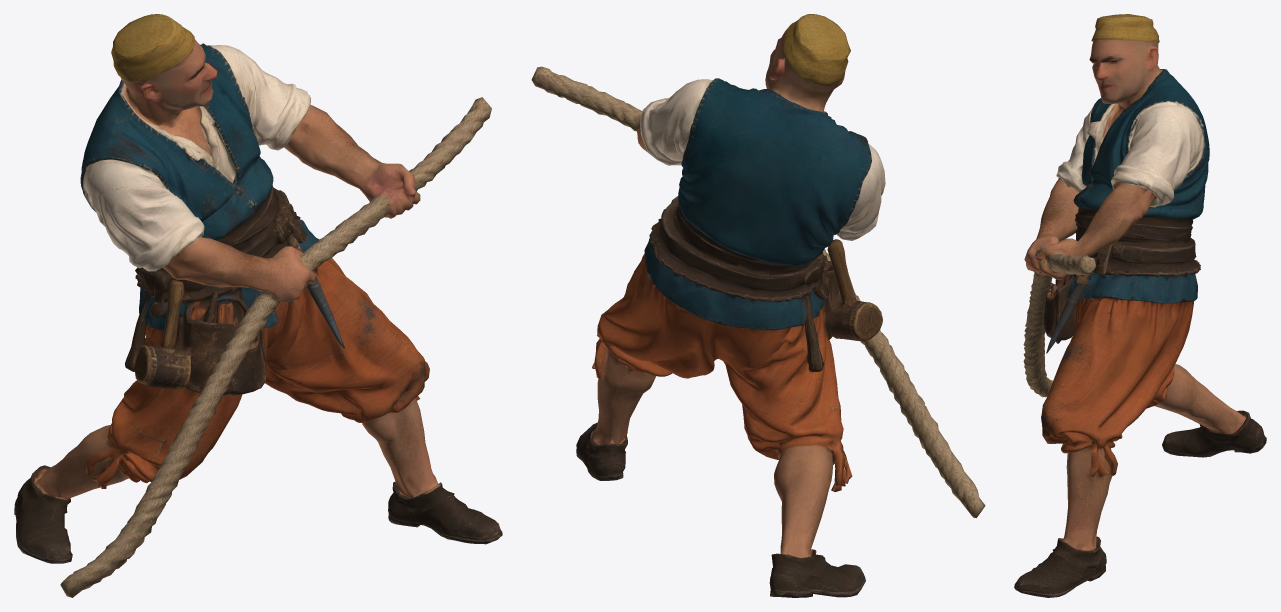
File: tersane-halaticisi-1550-1600-tripo-v1.glb
3 renders of one model, left to right at view 1: azimuth 30°, elevation 25°; view 2: azimuth 150°, elevation 25°; view 3: azimuth 270°, elevation 25°, orthographic. The views are drawn at different scales.
Parts seen in each view (by area): view 1: tripo_node_6d67a8ea-44d6-4a6c-9e4f-53dc48230ed8; view 2: tripo_node_6d67a8ea-44d6-4a6c-9e4f-53dc48230ed8; view 3: tripo_node_6d67a8ea-44d6-4a6c-9e4f-53dc48230ed8.
Part boxes in pixels (bbox=[...]): tripo_node_6d67a8ea-44d6-4a6c-9e4f-53dc48230ed8: bbox=[14, 14, 502, 597]; tripo_node_6d67a8ea-44d6-4a6c-9e4f-53dc48230ed8: bbox=[531, 14, 985, 597]; tripo_node_6d67a8ea-44d6-4a6c-9e4f-53dc48230ed8: bbox=[1014, 14, 1266, 597].
Bounding box in the file's own units: 0.8578 × 1 × 0.4905.
1 material, 1 textured.
